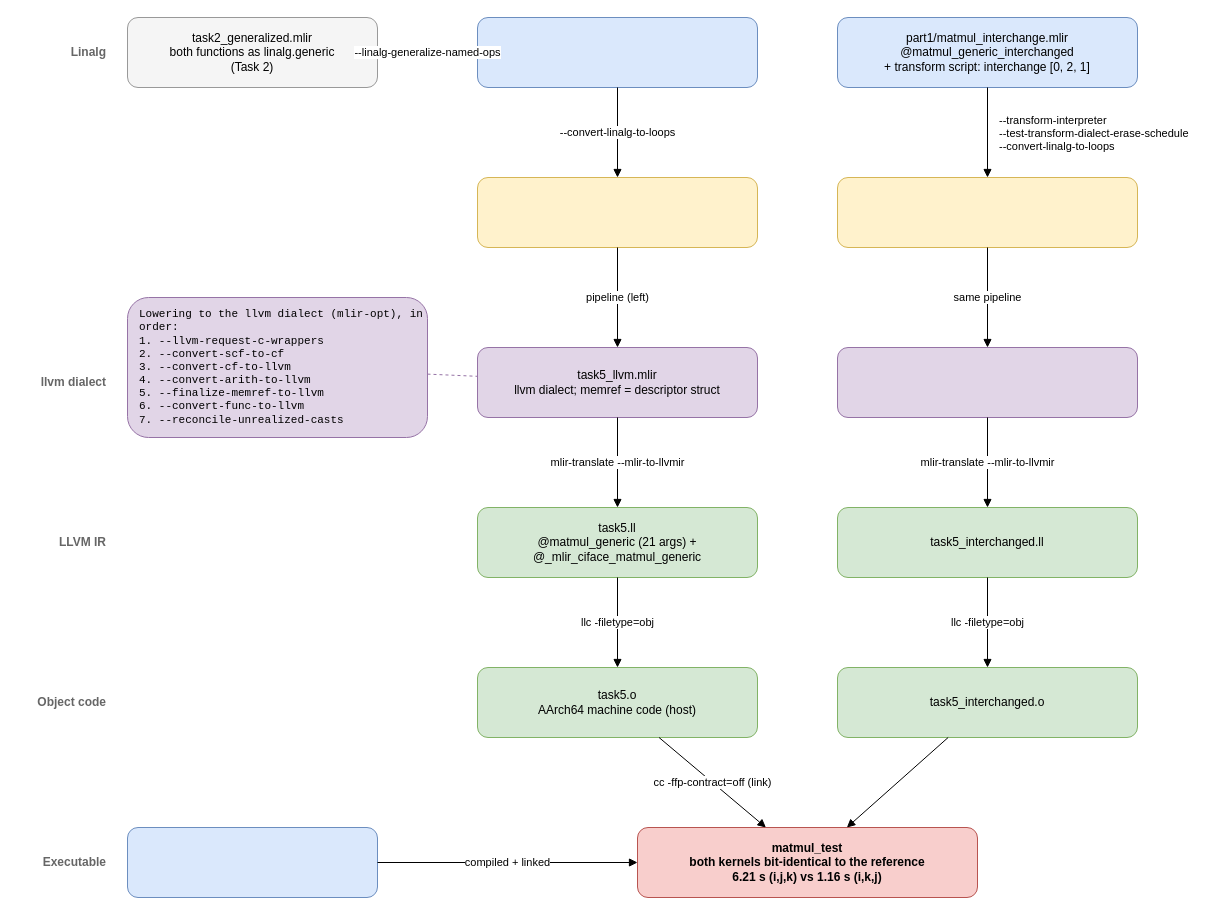
Some shapes in this 1207 by 915 pixel diagram are drawn without their labels. The shapes that lost their labels are listed below. From the top down, each one's centre as x and y in pixels, then its label:
(x=617, y=52): part1/matmul.mlir @matmul_generic (linalg.generic) @matmul_named (linalg.matmul)
(x=617, y=212): task3_scf.mlir scf.for i, j, k; memref.load/store (Task 3)
(x=987, y=212): task4_interchanged_scf.mlir scf.for i, k, j (Task 4)
(x=987, y=382): task5_llvm_interchanged.mlir llvm dialect
(x=252, y=862): part1/driver.c allocate, fill, descriptors, C reference, compare (==), time
